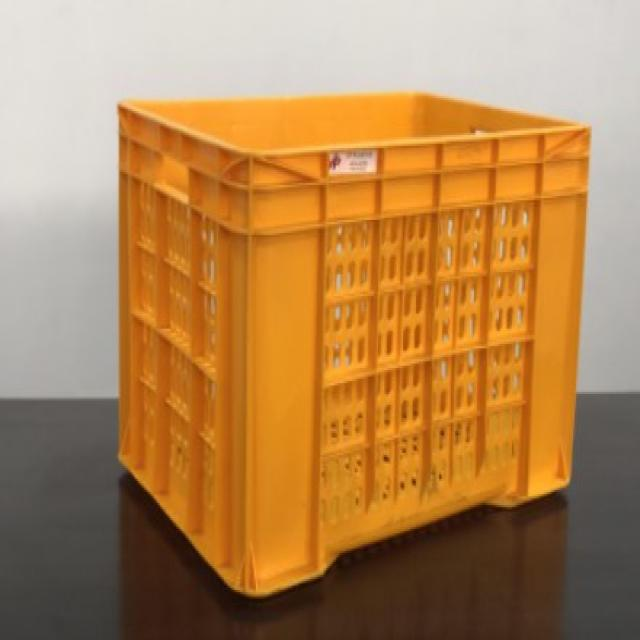basket: (119, 91, 593, 598)
